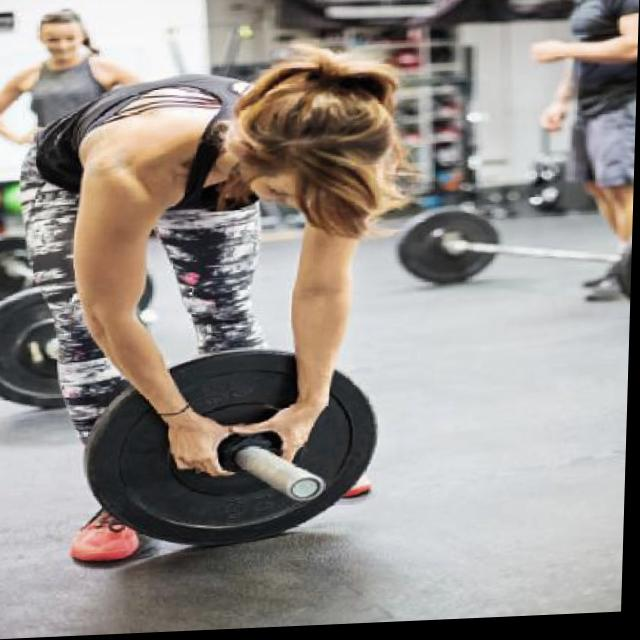barbell: (84, 337, 390, 561)
